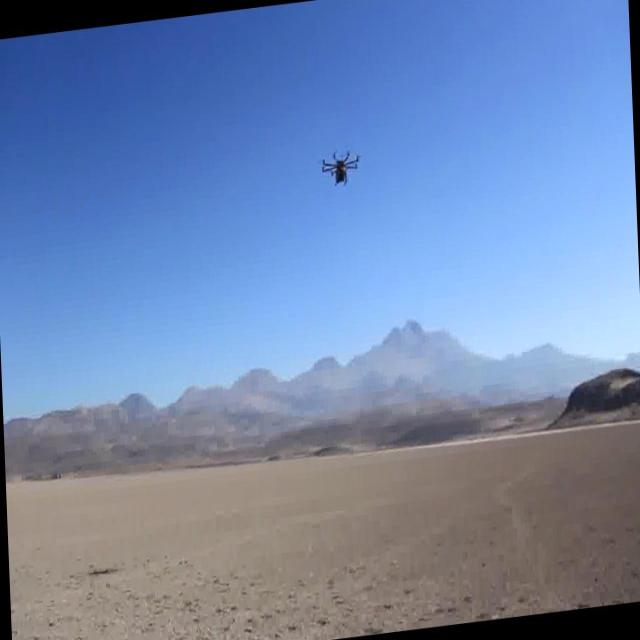drone: (318, 140, 361, 192)
